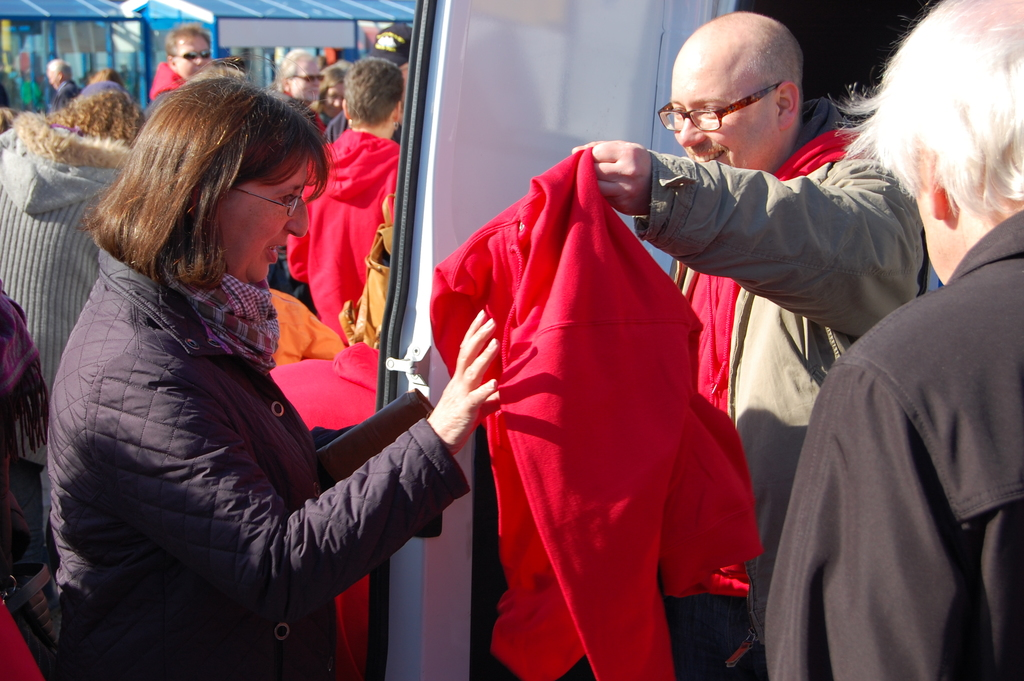Human_hand: (433, 345, 502, 451), (571, 140, 655, 218)
